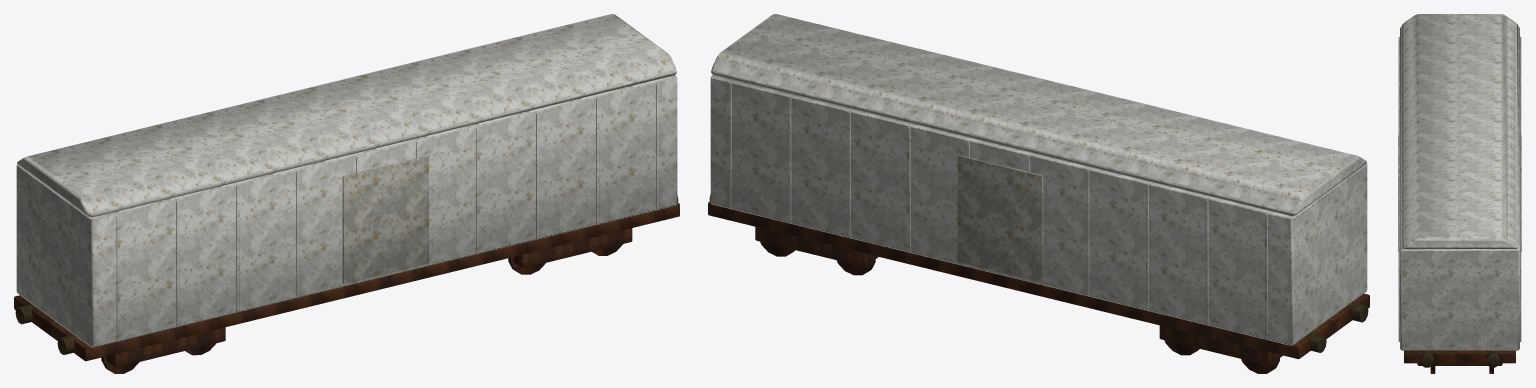
File: veh_wagon_box.gltf
3 views of the same model, side by side, from view 1: azimuth 30°, elevation 25°; view 2: azimuth 150°, elevation 25°; view 3: azimuth 270°, elevation 25° (orthographic). The views are drawn at different scales.
Visible parts, largest first — view 1: box.003, box.004, box.005, box.002, box, box.001; view 2: box.003, box.004, box.016, box.002, box, box.001; view 3: box.004, box.003, box.002, cyl.010, cyl.011, box.015, box.026, box.001, box.005, box.016.
Part boxes in pixels (bbox=[...]): box.003: bbox=[16, 75, 677, 347]; box.004: bbox=[17, 14, 676, 217]; box.005: bbox=[342, 155, 428, 284]; box.002: bbox=[14, 202, 679, 361]; box: bbox=[106, 327, 225, 367]; box.001: bbox=[513, 228, 632, 268]; box.003: bbox=[710, 75, 1367, 345]; box.004: bbox=[711, 14, 1366, 216]; box.016: bbox=[957, 155, 1043, 282]; box.002: bbox=[708, 201, 1369, 359]; box: bbox=[1159, 325, 1282, 365]; box.001: bbox=[755, 227, 878, 266]; box.004: bbox=[1401, 14, 1518, 248]; box.003: bbox=[1400, 27, 1519, 350]; box.002: bbox=[1404, 350, 1515, 363]; cyl.010: bbox=[1420, 350, 1433, 367]; cyl.011: bbox=[1486, 350, 1499, 367]; box.015: bbox=[1398, 243, 1399, 341]; box.026: bbox=[1520, 243, 1521, 341]; box.001: bbox=[1417, 363, 1502, 365]; box.005: bbox=[1398, 136, 1399, 251]; box.016: bbox=[1520, 136, 1521, 251].
Bounding box in the file's own units: 14.3 × 4.4 × 3.18.
4 materials, 4 textured.
